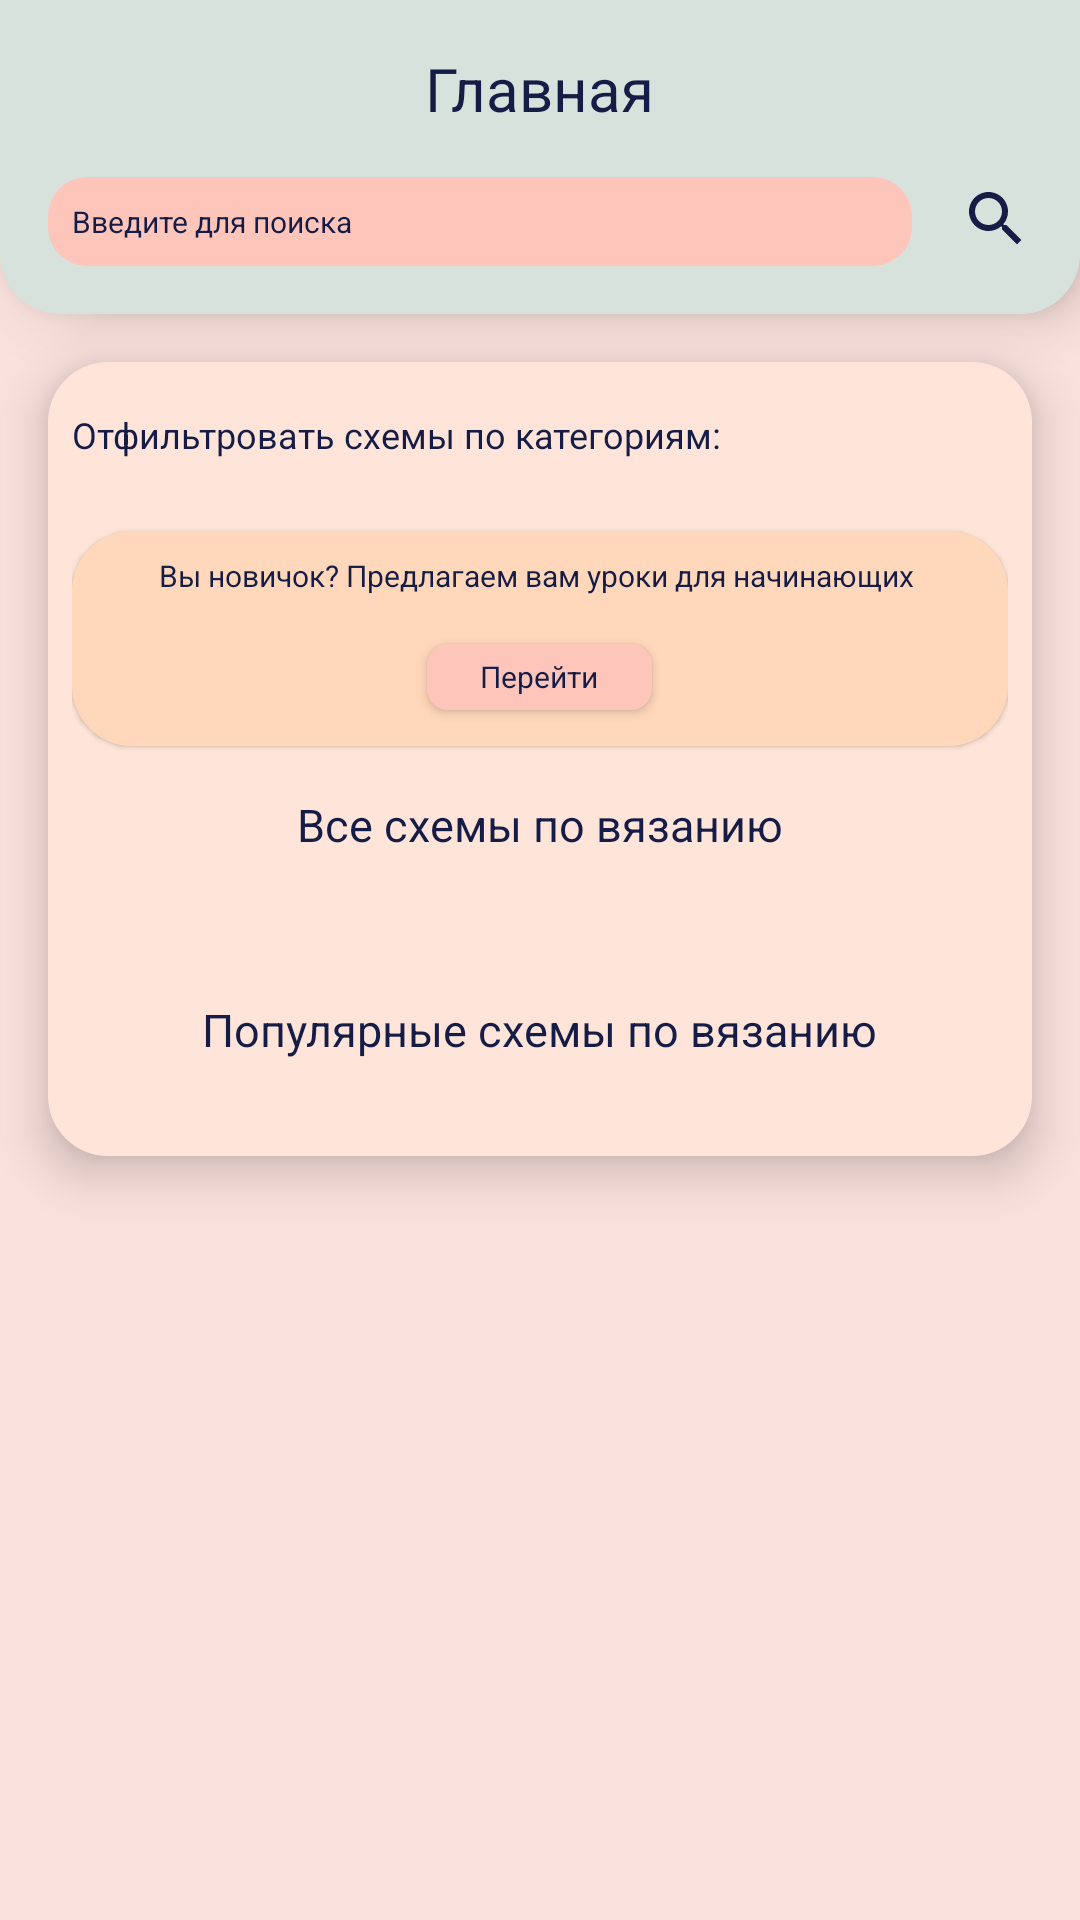

Screen size 1080x1920. Icon name, then its center in pixels as point (x, y):
search: point (995, 218)
